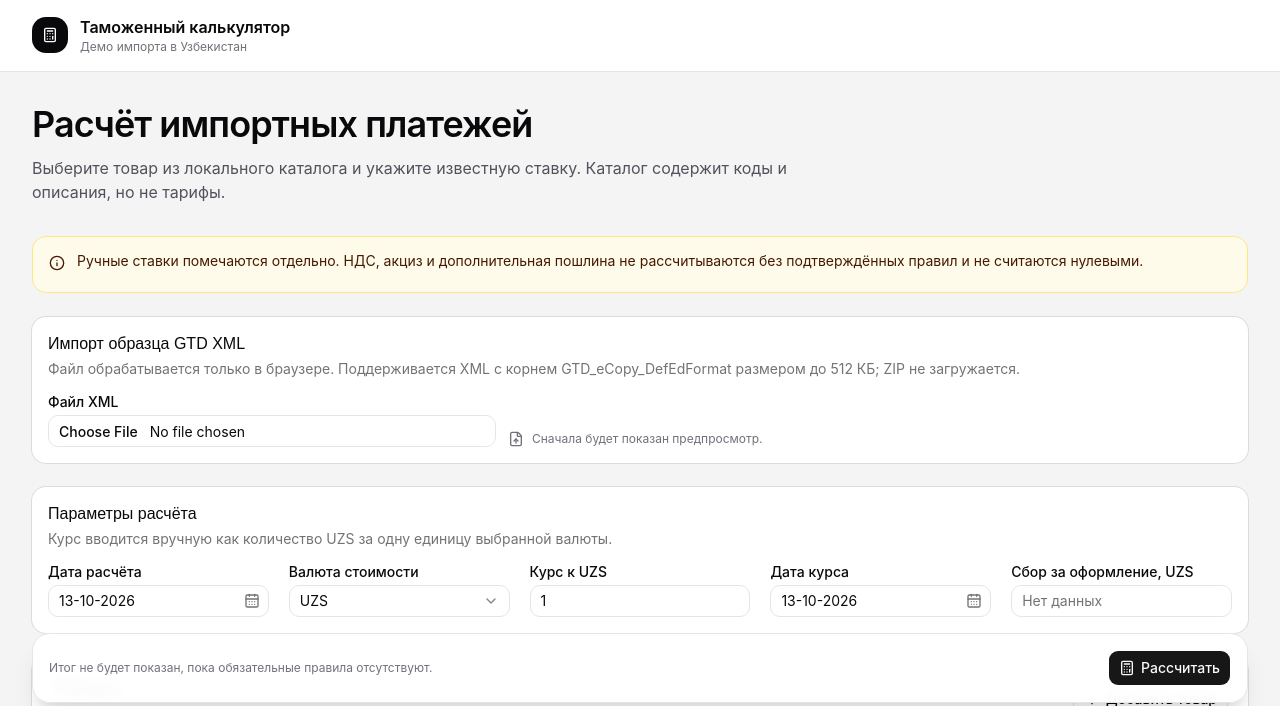
calculator page › shows validation errors and does not calculate empty required inputs
Click the button "Рассчитать".
click(1170, 668)  # box [1108,650,1231,686]
(page scrolled)
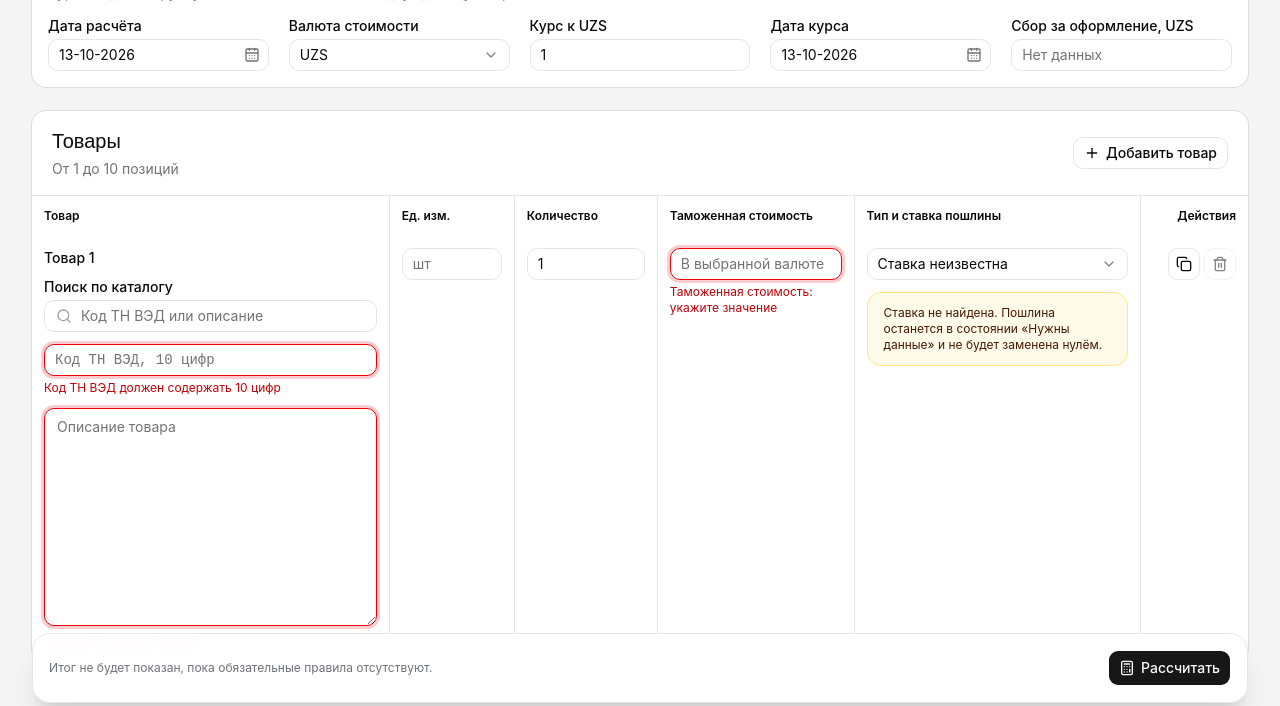
Expected: the text "Укажите описание товара" is shown, [44,635,197,650]
Now the text "Код ТН ВЭД должен содержать 10 цифр" is shown, box [44,380,281,395]
Now the text "Таможенная стоимость: укажите значение" is shown, box [670,284,813,315]
Type "0123456789" into the field labelled "Код ТН ВЭД".
click(210, 360); type("0123456789")  # box [44,344,377,376]
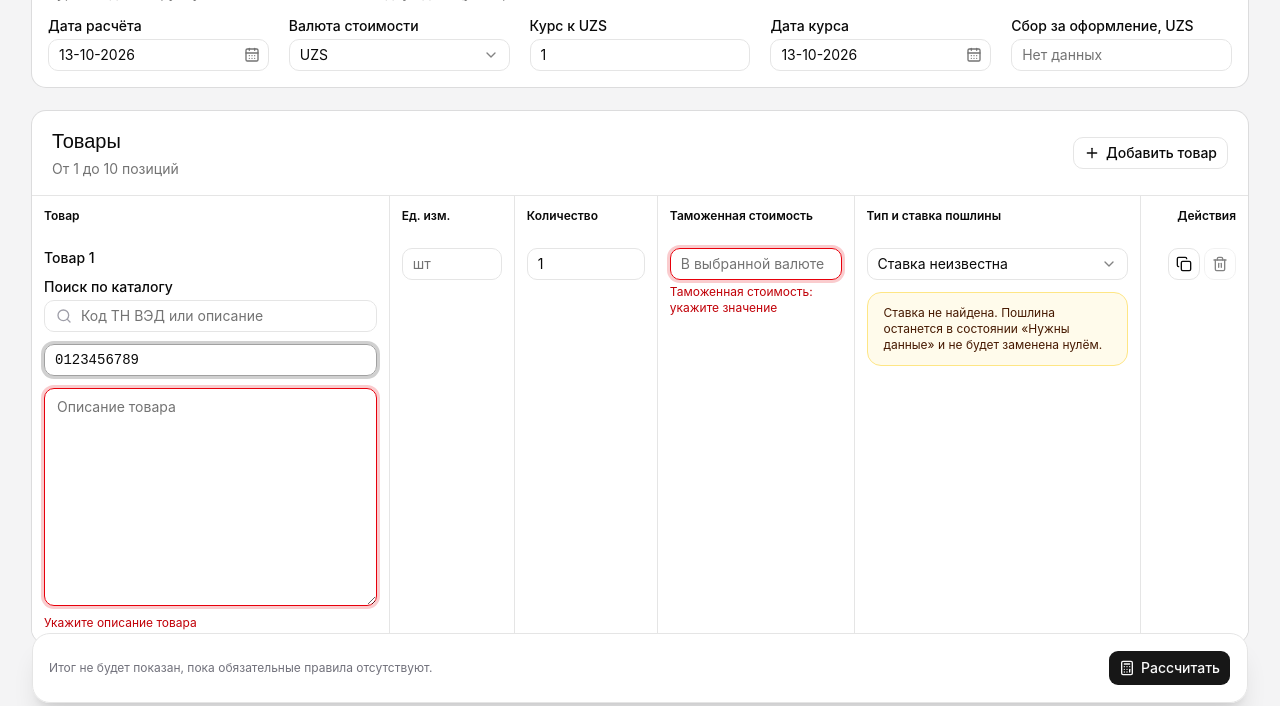
Now the text "Код ТН ВЭД должен содержать 10 цифр" is gone
